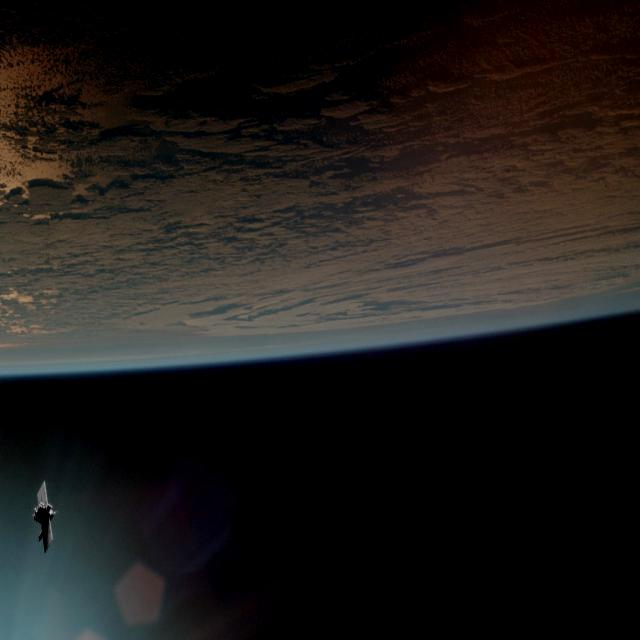satellite: (27, 478, 66, 566)
